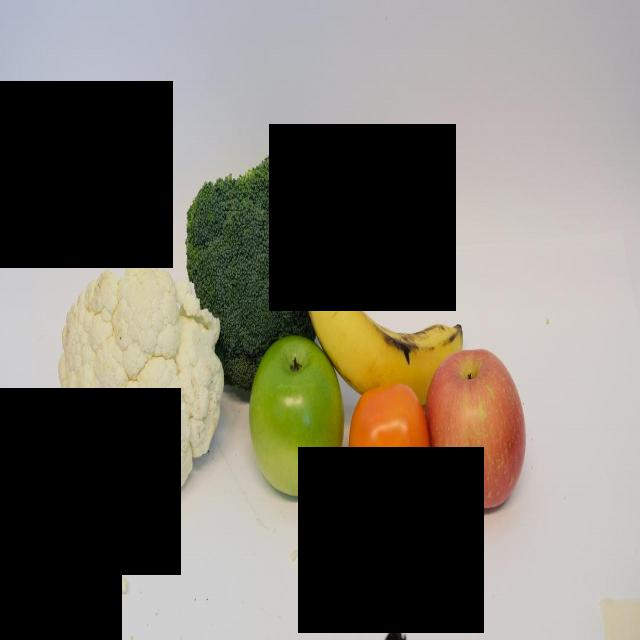apple: (425, 347, 526, 510), (248, 332, 344, 498)
banana: (299, 208, 463, 404)
broccoli: (185, 147, 339, 400)
cauliflower: (58, 255, 225, 508)
tomato: (348, 380, 431, 522)
